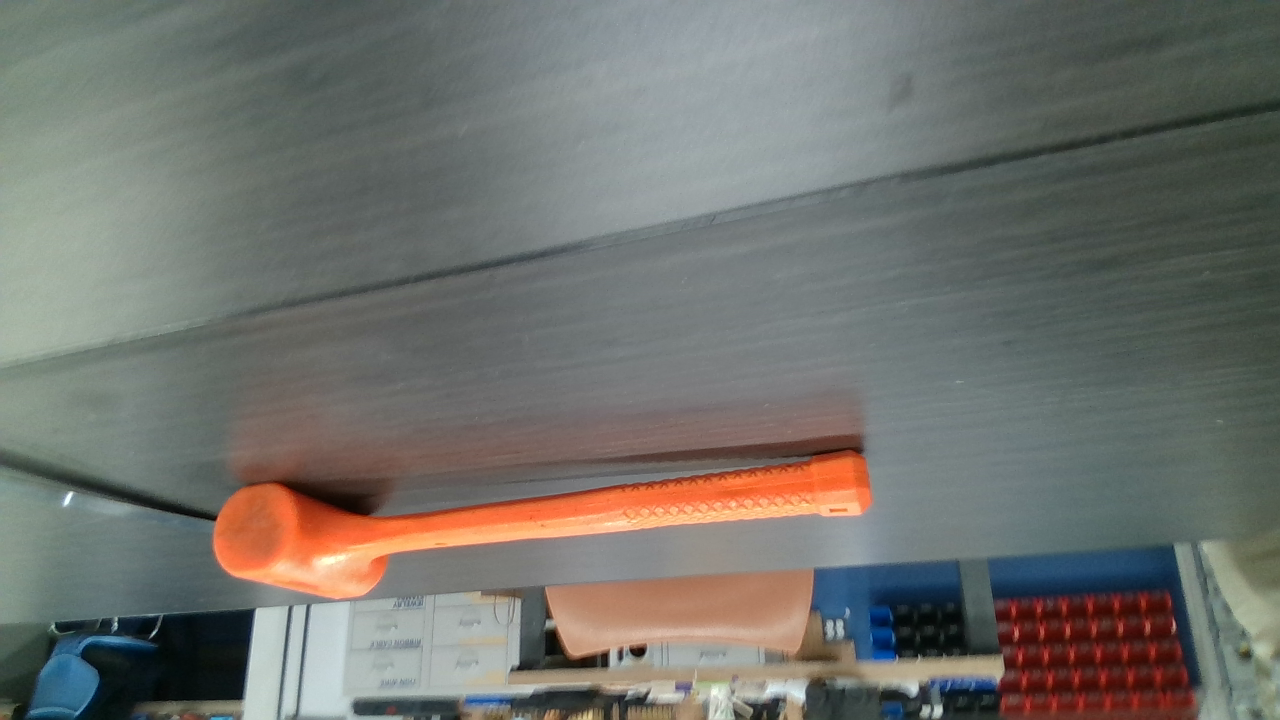Orange Hammer: (217, 445, 871, 599)
